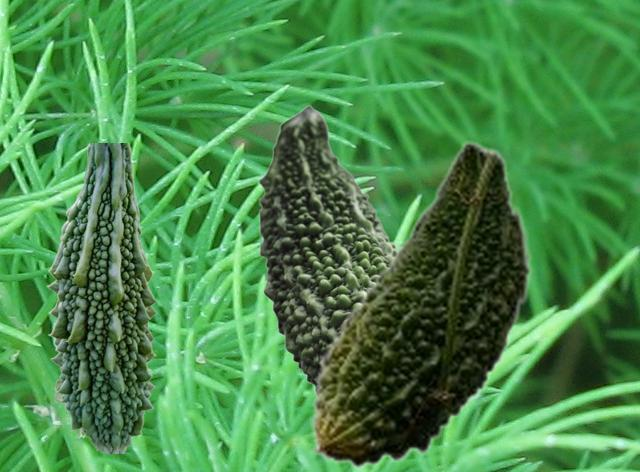ampalaya: (310, 140, 532, 468), (258, 104, 396, 386), (46, 143, 156, 452)
